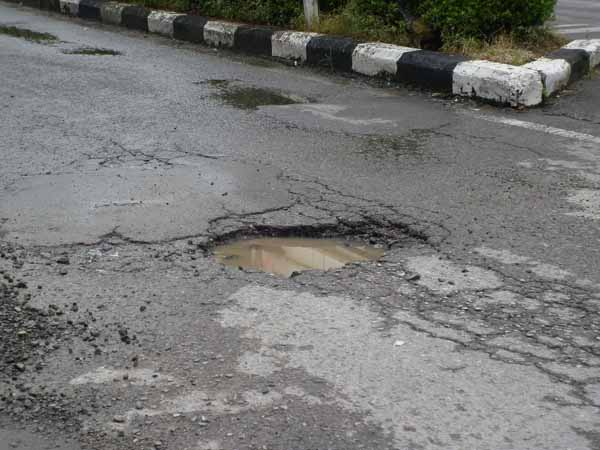pothole: (191, 197, 468, 319)
